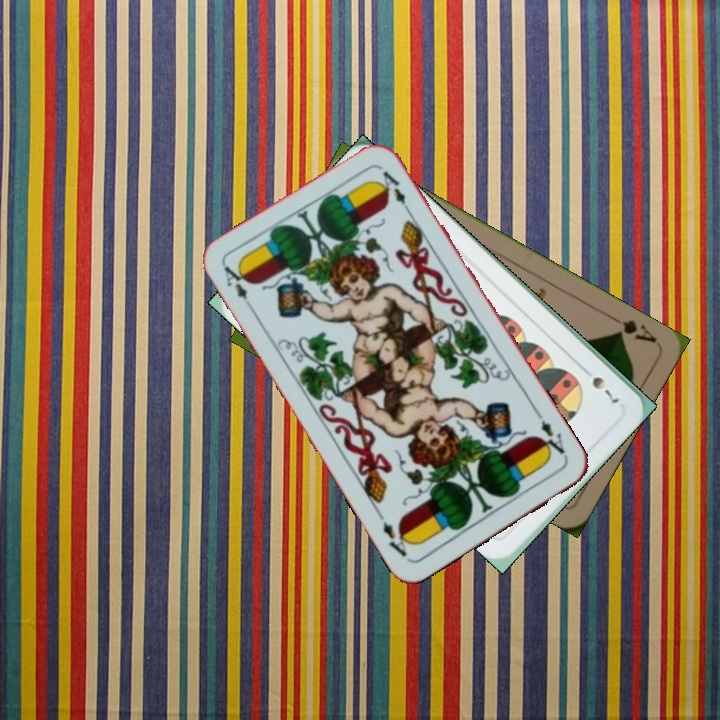EA: (532, 408, 570, 461), (219, 261, 257, 314)
GA: (605, 311, 660, 346)
S7: (576, 362, 622, 406)
